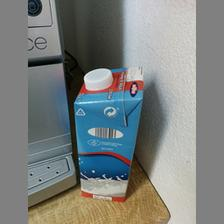Milch: (72, 64, 144, 204)
